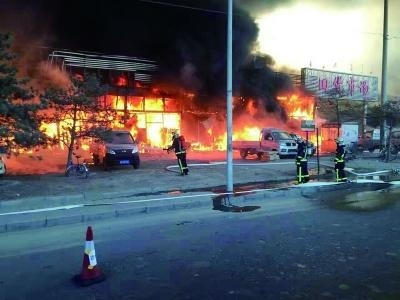fire: (1, 77, 190, 160)
